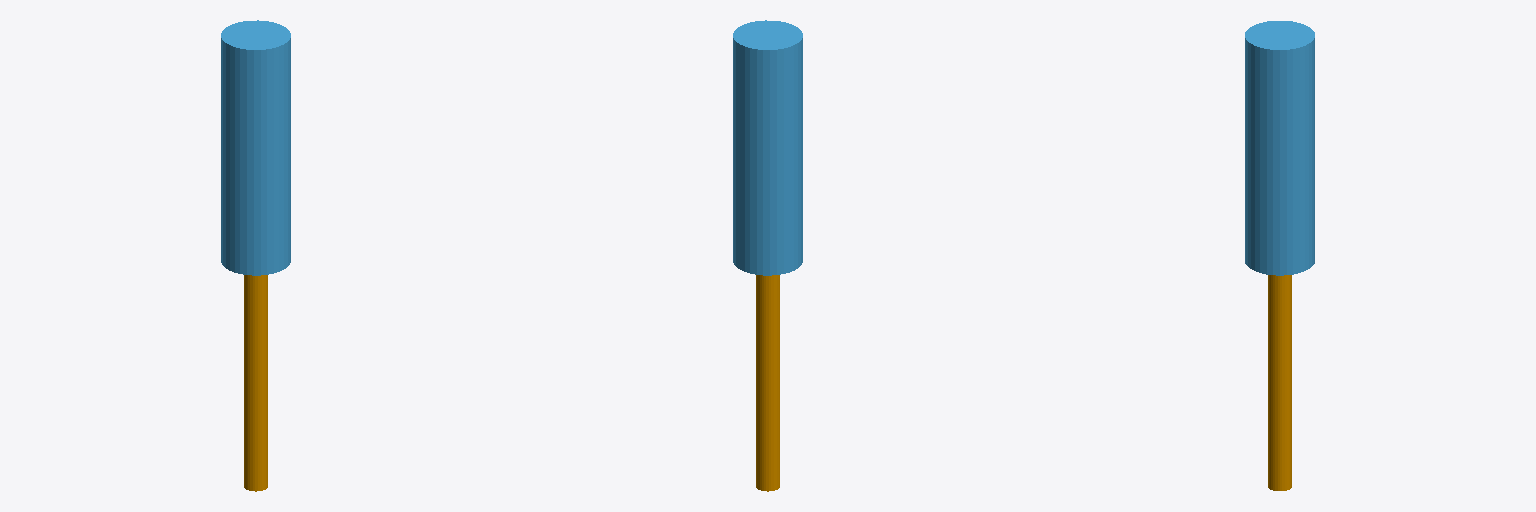
The robot description file, URDF, robot "screwdriver_on_the_table":
<?xml version="1.0" ?>
<!-- this is the one without any virtual joints and links -->
<robot name="screwdriver_on_the_table">
<link name="screwdriver_stick">
    <inertial>
      <mass value="0.05"/>
      <!-- <friction value="1.0"/> -->
      <inertia ixx="0.000041979" ixy="0.0" ixz="0.0" iyy="0.000041979" iyz="0.0" izz="0.000000625"/>
    </inertial>
    <visual>
        <origin rpy="0 0 0" xyz="0 0 0.05"/>
        <geometry>
            <cylinder radius="0.005" length="0.1"/>
        </geometry>
        <!-- <material name="White">
	 	    <color rgba="0.9 0.9 0.9 0.5"/>
        </material> -->
    </visual>
    <collision>
        <origin rpy="0 0 0" xyz="0 0 0.05"/>
        <geometry>
            <cylinder radius="0.005" length="0.1"/>
        </geometry>
    </collision>
</link>

<gazebo reference="screwdriver_body">
    <mu1>0.712155</mu1>
    <mu2>1.261796</mu2>
    <!-- Isaac Sim maps mu1/mu2 to PhysX static/dynamic friction during URDF→USD import -->
</gazebo>

<joint name="screwdriver_stick_body_joint" type="fixed">
    <parent link="screwdriver_stick"/>
    <child link="screwdriver_body"/>
    <origin rpy="0 0 0" xyz="0 0 0.1"/> 
    <axis xyz="0 0 1"/>
</joint>

<link name="screwdriver_body">
    <inertial>
      <mass value="0.165319"/>
      <inertia ixx="0.000146026" ixy="0.0" ixz="0.0" iyy="0.000146026" iyz="0.0" izz="0.000016520"/>
    </inertial>
    <visual>
        <origin rpy="0 0 0" xyz="0 0 0.05"/>
        <geometry>
            <cylinder radius="0.014137" length="0.1"/>
        </geometry>
        <!-- <material name="Red1">
	 	    <color rgba="0.9 0. 0. 0.5"/>
        </material> -->
    </visual>
    <collision>
        <origin rpy="0 0 0" xyz="0 0 0.05"/>
        <geometry>
            <cylinder radius="0.014137" length="0.1"/>
        </geometry>
    </collision>
</link>

<!-- <joint name="screwdriver_body_cap_joint" type="revolute">
    <parent link="screwdriver_body"/>
    <child link="screwdriver_cap"/>
    <origin rpy="0 0 0" xyz="0 0 0.1"/> 
    <axis xyz="0 0 1"/>
</joint>

<link name="screwdriver_cap">
    <inertial>
      <mass value="0.005"/>
      <inertia ixx="0.00001" ixy="0.0" ixz="0.0" iyy="0.000005" iyz="0.0" izz="0.000005"/>
    </inertial>
    <visual>
        <origin rpy="0 0 0" xyz="0 0 0.0006"/>
        <geometry>
            <cylinder radius="0.02" length="0.001"/>
        </geometry>
        <material name="Yellow">
	 	    <color rgba="0.9 0.9 0. 1.0"/>
        </material>
    </visual>
    <collision>
        <origin rpy="0 0 0" xyz="0 0 0.0005"/>
        <geometry>
            <cylinder radius="0.02" length="0.001"/>
        </geometry>
    </collision>
</link> -->

</robot>

--- What the picture shows (computed from the rendered views, not written in the file) ---
Views: 3 orthographic renders of the robot side by side, from view 1: azimuth 30°, elevation 25°; view 2: azimuth 150°, elevation 25°; view 3: azimuth 270°, elevation 25°.
Robot: screwdriver_on_the_table — 2 links, 1 joints (1 fixed); root link screwdriver_stick; default pose: all joints at 0.
Visible links, largest first — view 1: screwdriver_body, screwdriver_stick; view 2: screwdriver_body, screwdriver_stick; view 3: screwdriver_body, screwdriver_stick.
Link boxes in pixels (x1,y1,x2,y2): screwdriver_body: [221, 20, 290, 275]; screwdriver_stick: [244, 275, 267, 491]; screwdriver_body: [733, 20, 802, 275]; screwdriver_stick: [756, 275, 779, 491]; screwdriver_body: [1245, 21, 1314, 275]; screwdriver_stick: [1268, 275, 1291, 490].
Bounding box of the posed robot: 0.0283 × 0.0283 × 0.2 m (x, y, z).
Geometry: primitives only (box / cylinder / sphere), no mesh files.
